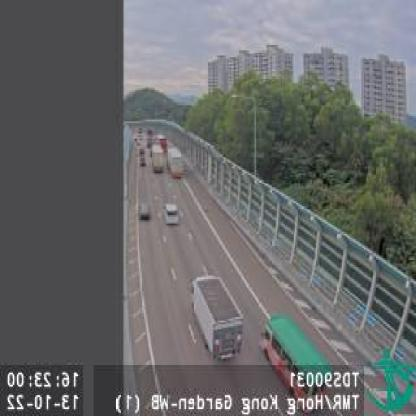Car: (162, 204, 178, 226), (138, 204, 150, 221)
Minibus: (262, 316, 329, 398)
Truck: (191, 272, 244, 364), (150, 141, 166, 175), (167, 147, 182, 178)
